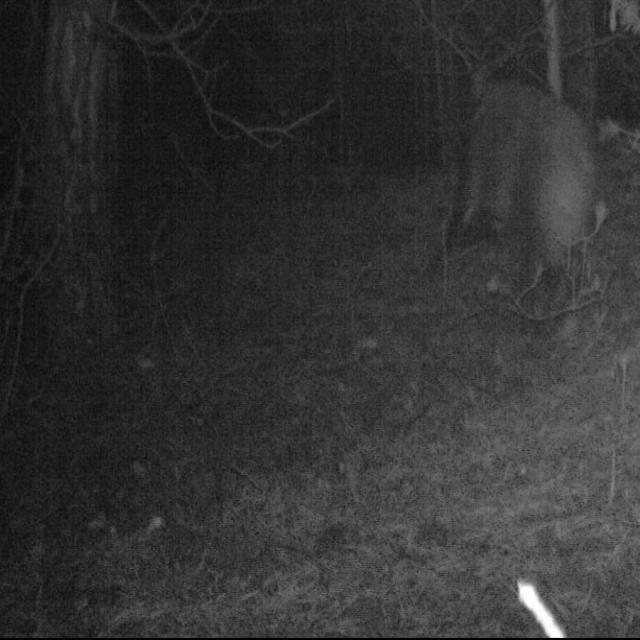pig: (442, 82, 616, 328)
